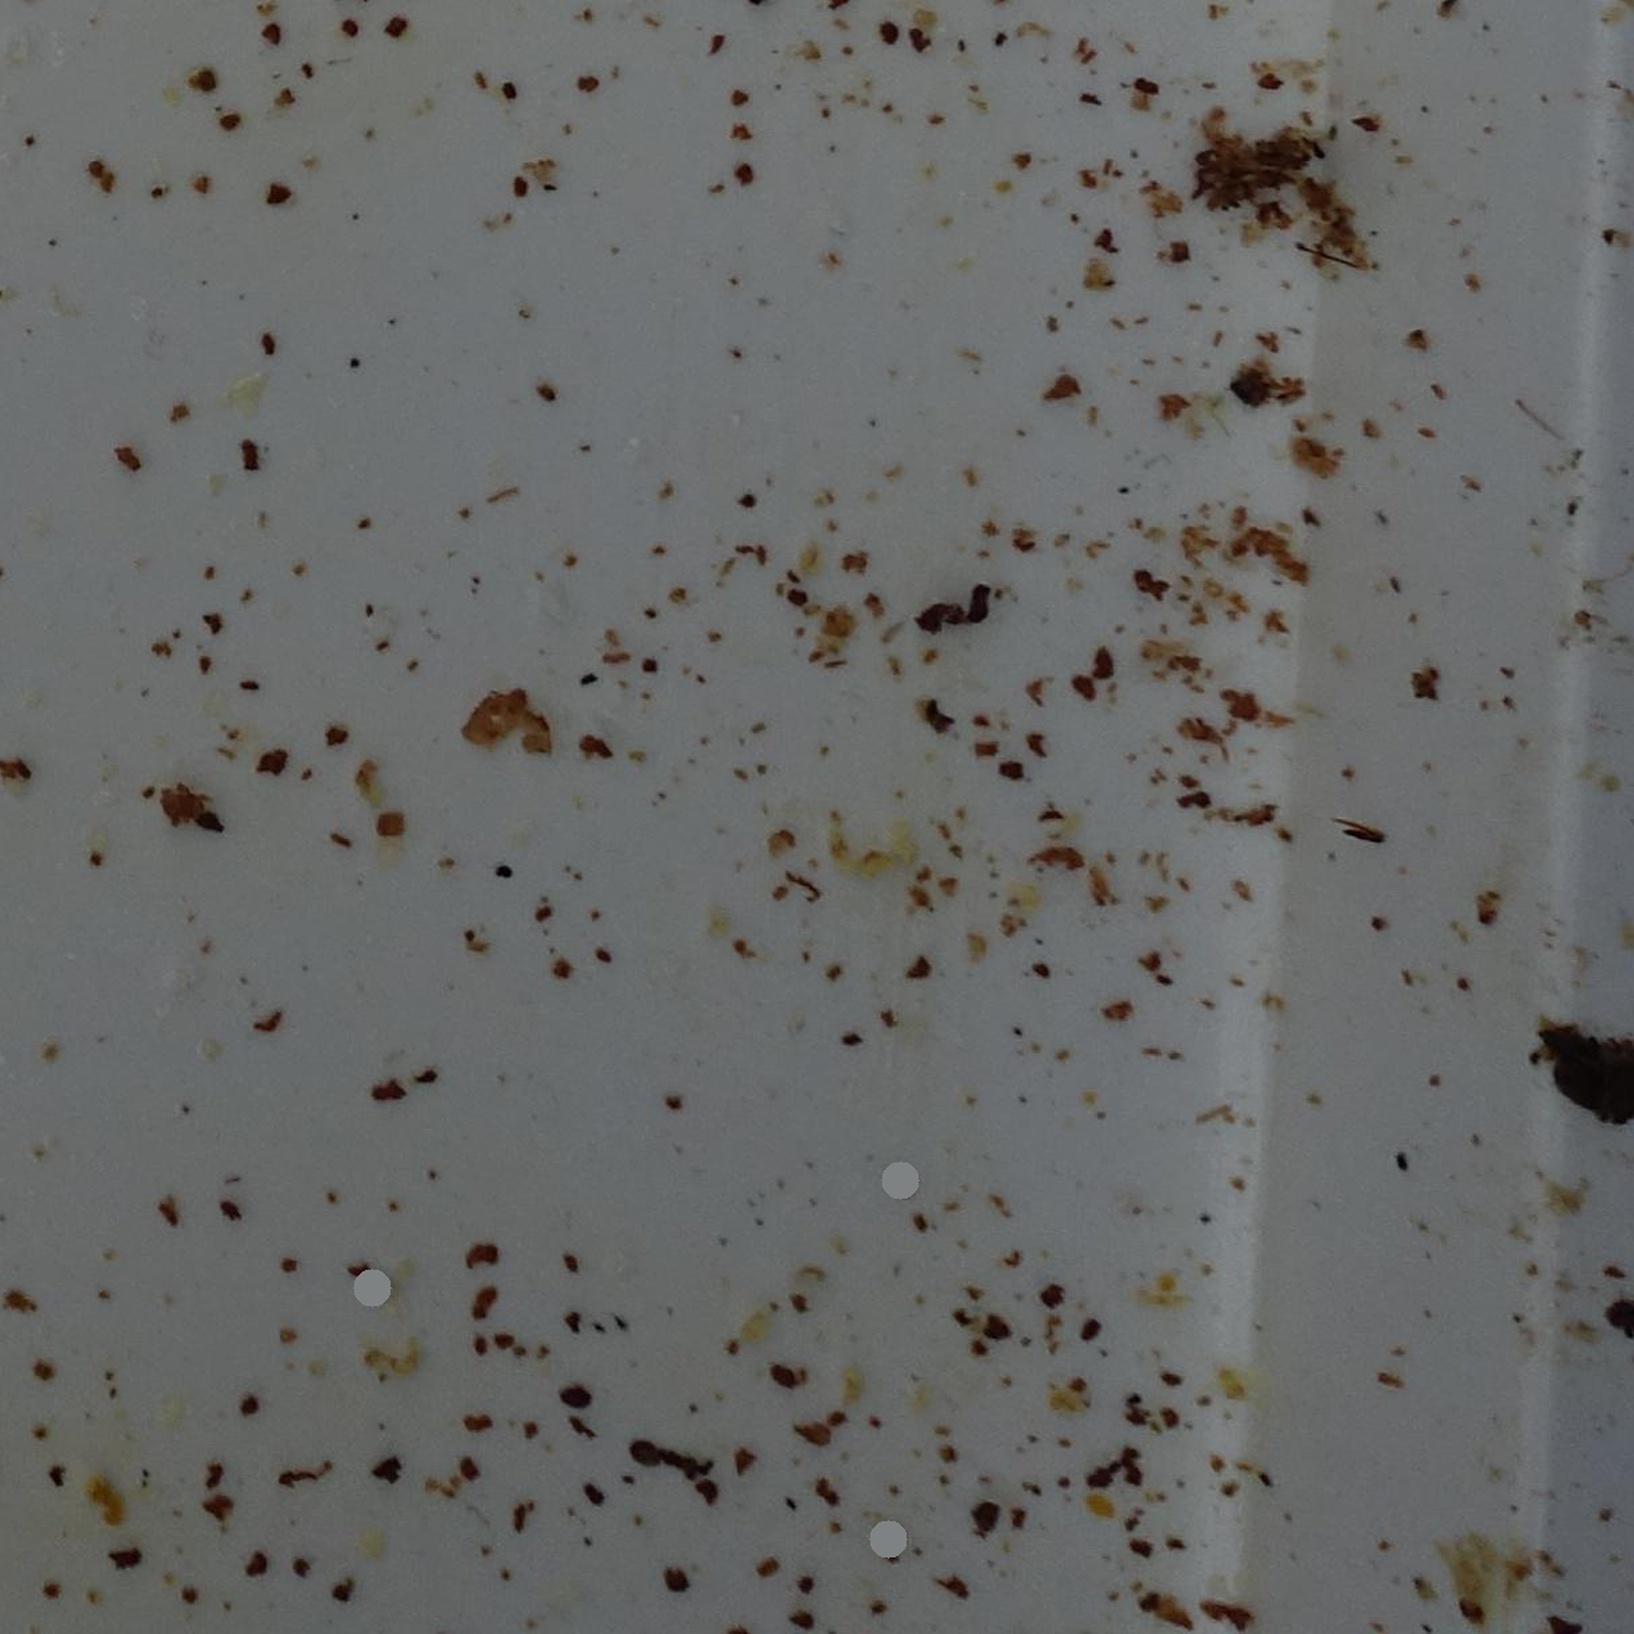Varroa: (634, 1436, 663, 1465), (567, 1384, 590, 1410)
